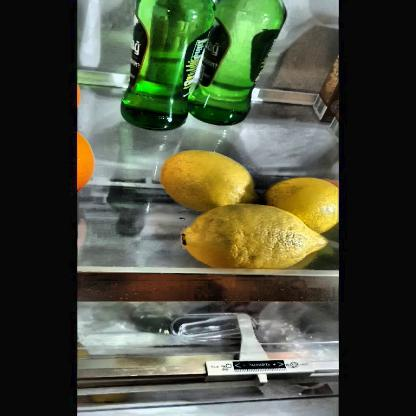lemon: (184, 210, 327, 270), (164, 150, 254, 210), (262, 181, 340, 231)
mineral_water: (193, 1, 288, 121), (134, 3, 212, 131)
